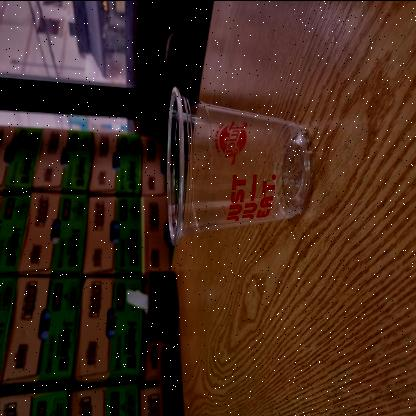Others: (164, 79, 314, 249)
